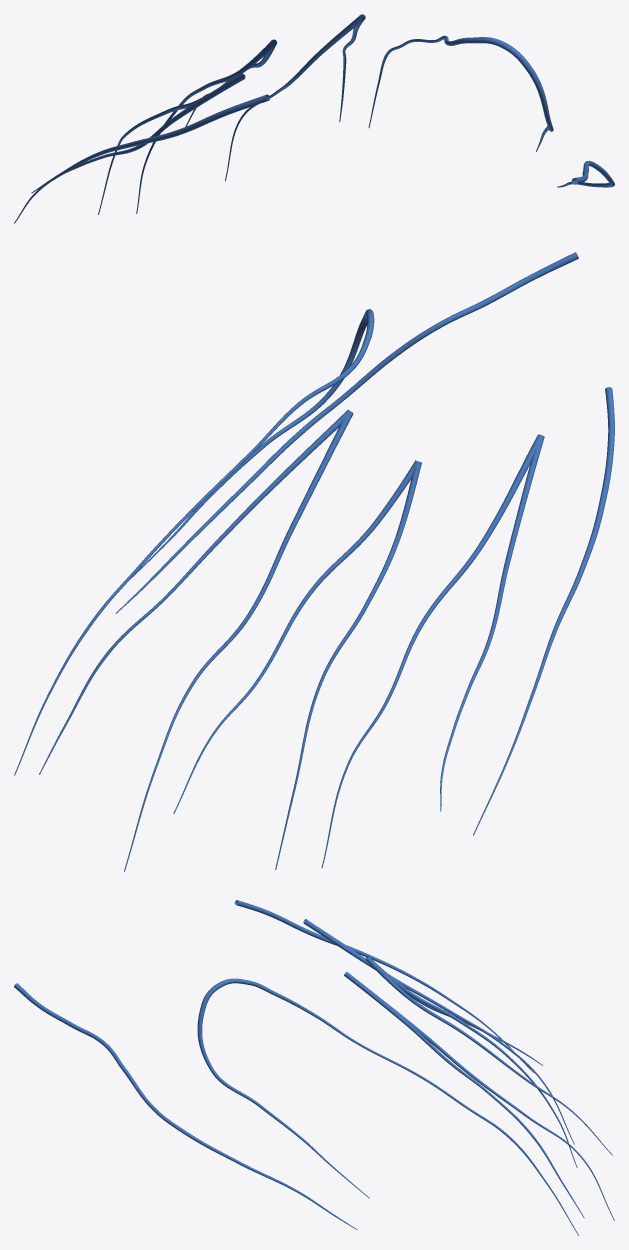
3 views of the same model, one above another, from view 1: azimuth 30°, elevation 25°; view 2: azimuth 150°, elevation 25°; view 3: azimuth 270°, elevation 25° (orthographic). The views are drawn at different scales.
Parts seen in each view (by area): view 1: 左侧指背静脉; view 2: 左侧指背静脉; view 3: 左侧指背静脉.
Part boxes in pixels (<box>): 左侧指背静脉: <box>14,14,614,223</box>; 左侧指背静脉: <box>14,252,614,871</box>; 左侧指背静脉: <box>14,900,614,1235</box>.
Bounding box in the file's own units: 0.1565 × 0.1078 × 0.2346.
